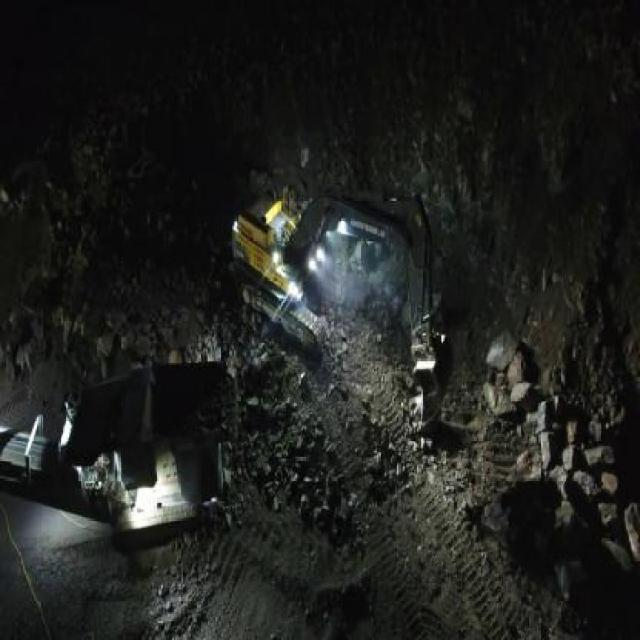Excavator: (233, 190, 450, 436)
